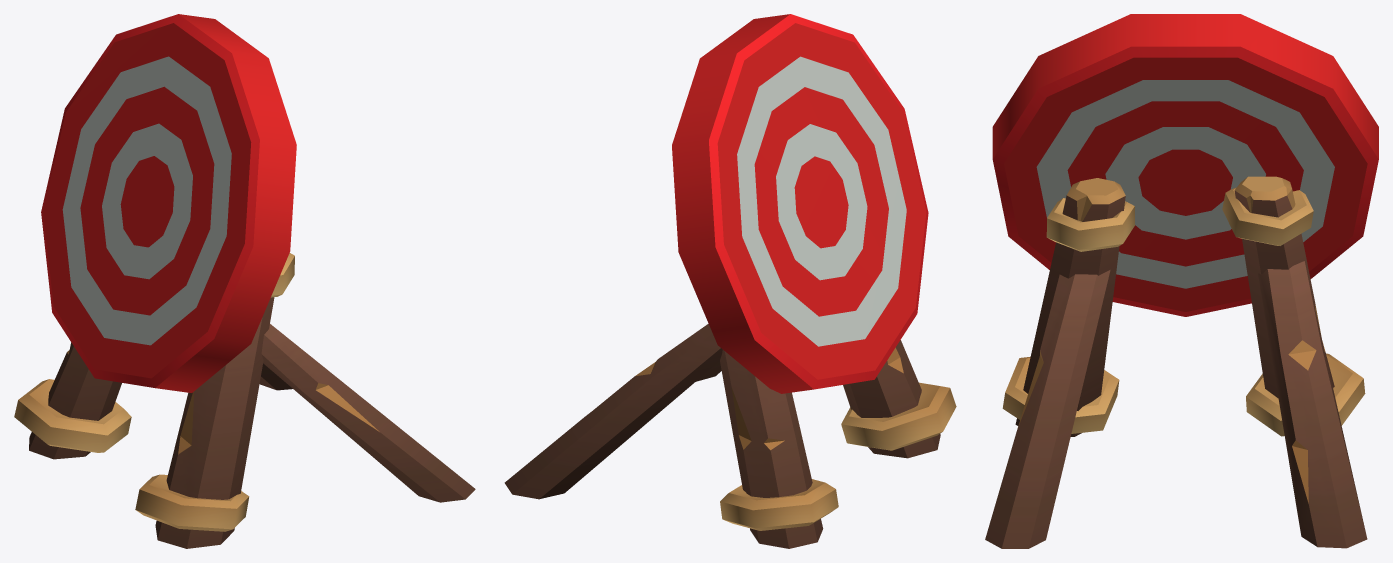
Rendered from PracticeTarget_1_B.glb.
3 views of the same model, side by side, from view 1: azimuth 30°, elevation 25°; view 2: azimuth 150°, elevation 25°; view 3: azimuth 270°, elevation 25° (orthographic). The views are drawn at different scales.
Parts seen in each view (by area): view 1: PracticeTarget_1_B; view 2: PracticeTarget_1_B; view 3: PracticeTarget_1_B.
Boxes of the visible parts, x1,y1,x2,y2 form: PracticeTarget_1_B: [14, 14, 475, 548]; PracticeTarget_1_B: [504, 14, 956, 548]; PracticeTarget_1_B: [985, 14, 1378, 548].
Size of the model in its own units: 0.5672 by 0.7701 by 0.6185.
Materials: 1 (1 with a texture image).
